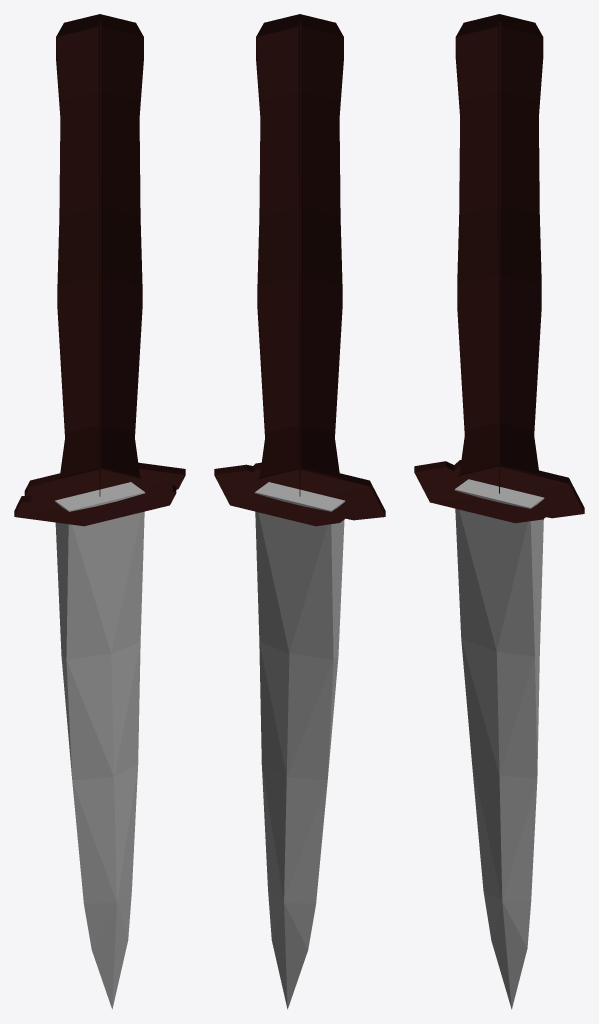
File: Cuchillo doble filo.fbx
3 renders of one model, left to right at view 1: azimuth 30°, elevation 25°; view 2: azimuth 150°, elevation 25°; view 3: azimuth 330°, elevation 25°, orthographic.
Visible parts, largest first — view 1: Torno, Cubo; view 2: Torno, Cubo; view 3: Torno, Cubo.
Part boxes in pixels (left/top/right/bottom): Torno: left=14, top=14, right=185, bottom=526; Cubo: left=54, top=482, right=145, bottom=1009; Torno: left=214, top=14, right=385, bottom=526; Cubo: left=254, top=482, right=345, bottom=1009; Torno: left=414, top=14, right=584, bottom=523; Cubo: left=454, top=479, right=544, bottom=1009.
Bounding box in the file's own units: 127 × 699 × 69.24.
